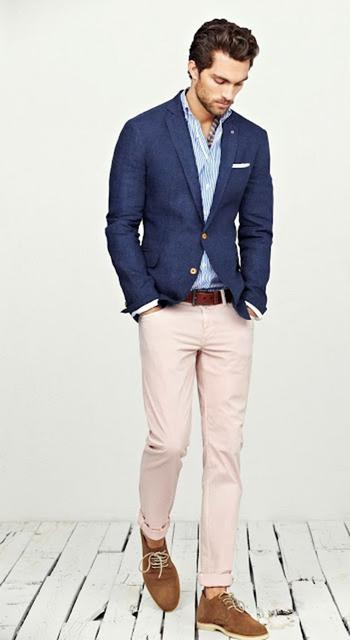F_M_suit jacket: (101, 89, 284, 315)
F_belt: (177, 288, 233, 311)
